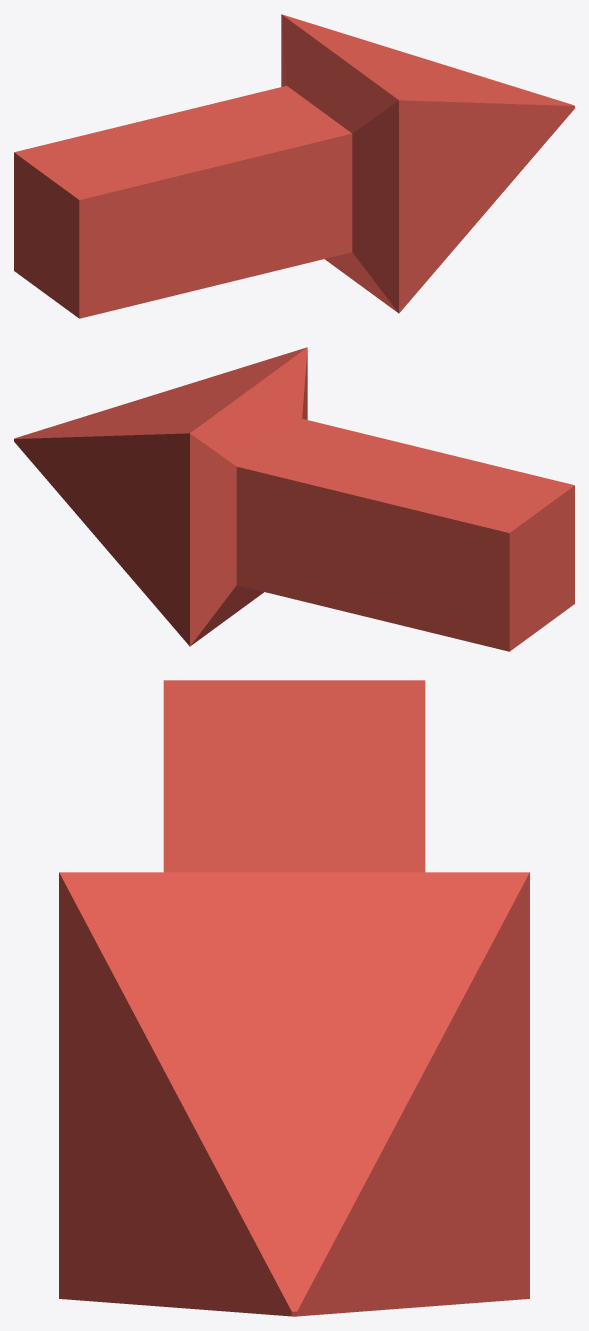
The model's file is Arrow_1205.fbx.
The picture shows the model from 3 angles, top to bottom: view 1: azimuth 30°, elevation 25°; view 2: azimuth 150°, elevation 25°; view 3: azimuth 270°, elevation 25°; orthographic projection. The views are drawn at different scales.
Parts seen in each view (by area): view 1: Arrow; view 2: Arrow; view 3: Arrow.
Part boxes in pixels (x1=…): Arrow: x1=14, y1=14, x2=574, y2=318; Arrow: x1=14, y1=347, x2=574, y2=651; Arrow: x1=59, y1=680, x2=529, y2=1316.
Bounding box in the file's own units: 931 × 360 × 360.
